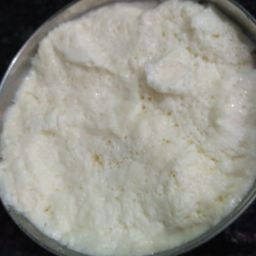Heavy Cream: (96, 9, 244, 237), (7, 105, 244, 229), (32, 53, 248, 132), (66, 26, 138, 252), (9, 104, 62, 217)
